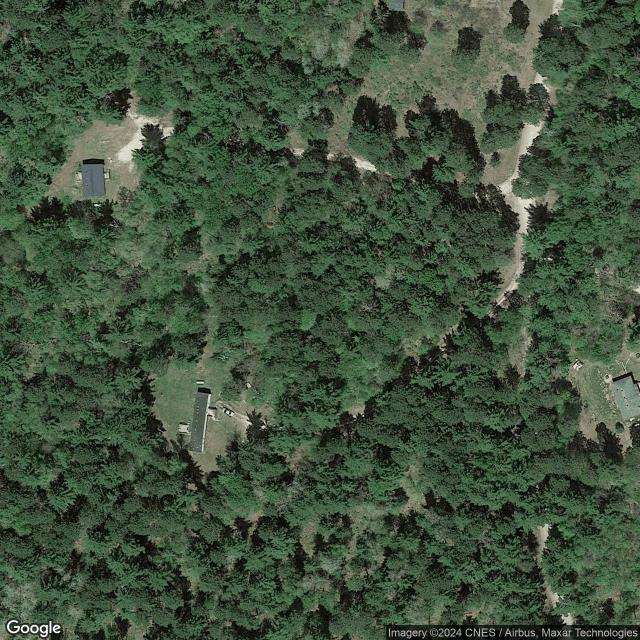Propane: (195, 379, 205, 385), (92, 202, 103, 207)
